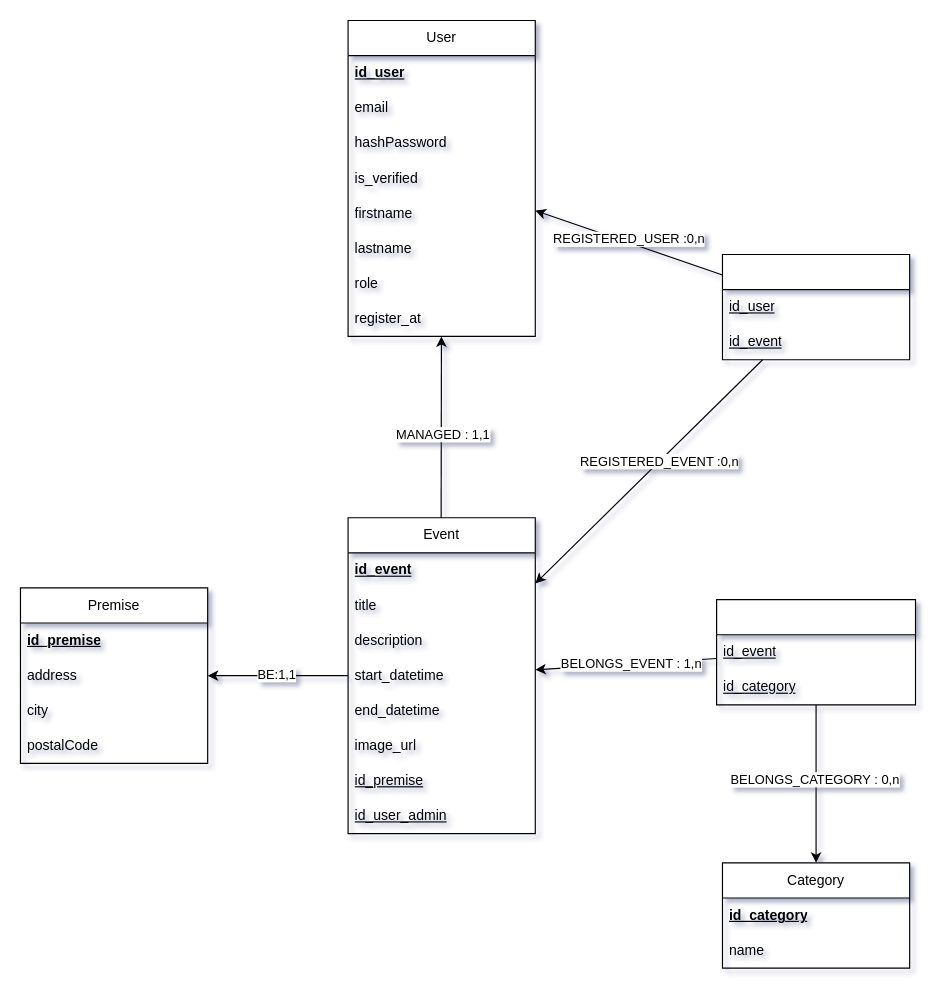
Some shapes in this 943 by 996 pixel diagram are drawn without their labels. The shapes that lost their labels are listed below. From the top down, each one's box as (x1, y1, x2, y2) in pixels, then its label:
(721, 253, 910, 360): User_Registered_Event
(715, 598, 916, 705): Event_Belongs_Category
